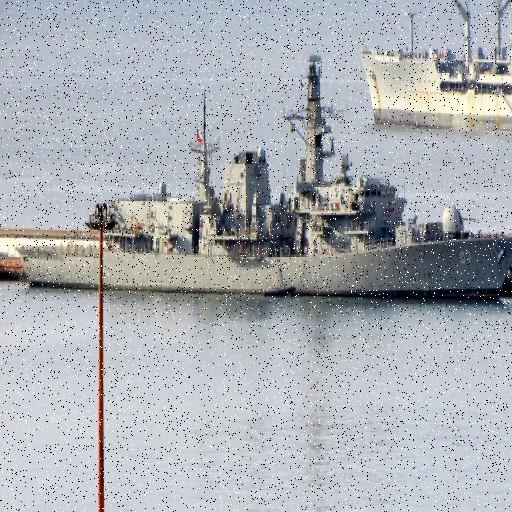Fragata: (14, 45, 512, 308)
